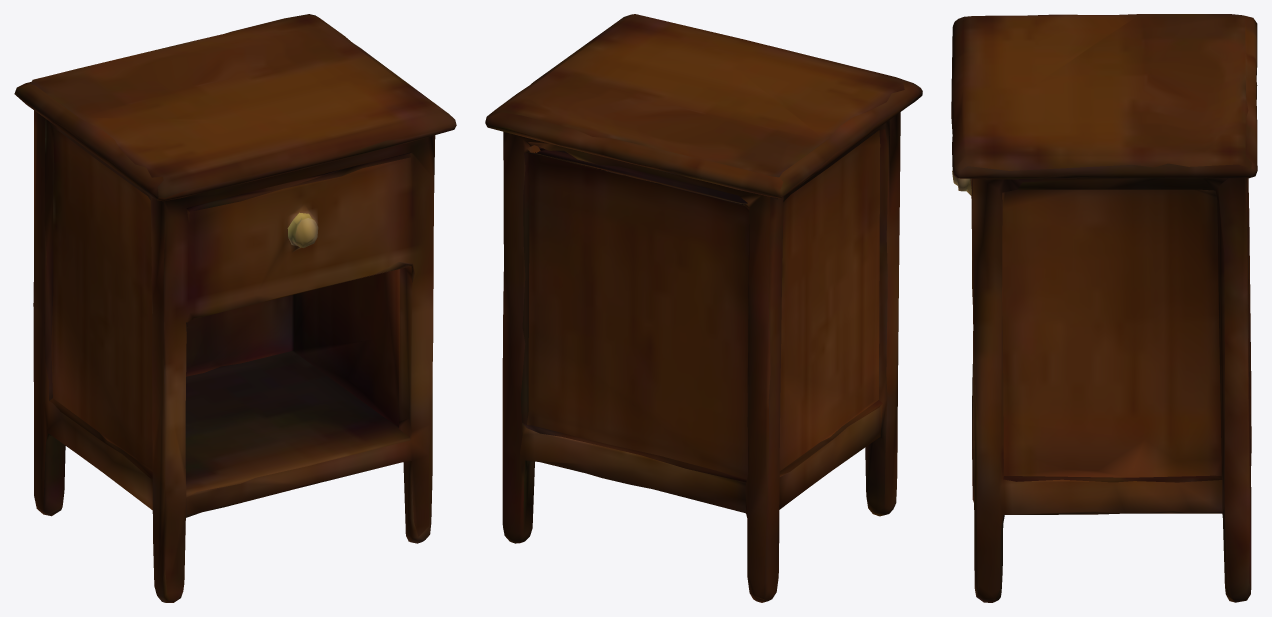
File: velador.movil.glb
3 views of the same model, side by side, from view 1: azimuth 30°, elevation 25°; view 2: azimuth 150°, elevation 25°; view 3: azimuth 270°, elevation 25° (orthographic). The views are drawn at different scales.
Parts seen in each view (by area): view 1: geometry_0; view 2: geometry_0; view 3: geometry_0.
Boxes of the visible parts, x1=… form: geometry_0: x1=14, y1=14, x2=456, y2=602; geometry_0: x1=485, y1=14, x2=922, y2=602; geometry_0: x1=951, y1=14, x2=1257, y2=602.
Bounding box in the file's own units: 0.4499 × 0.62 × 0.3798.
Materials: 1 (1 with a texture image).
